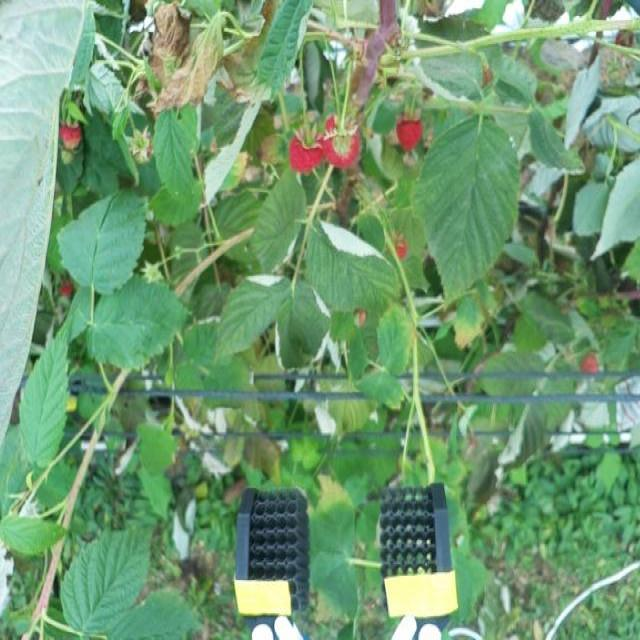Riped berries: (325, 113, 369, 170), (290, 122, 325, 174), (396, 102, 430, 146), (58, 119, 85, 150), (389, 236, 412, 260), (58, 273, 76, 298)
